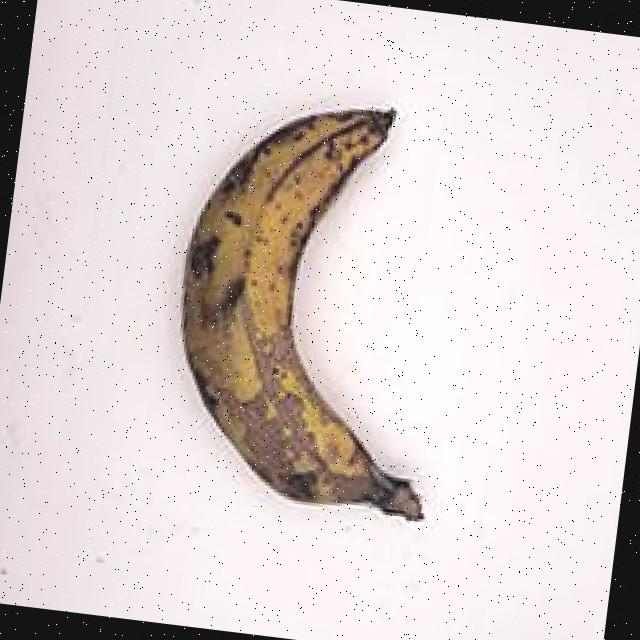Overripe: (132, 34, 494, 566)
